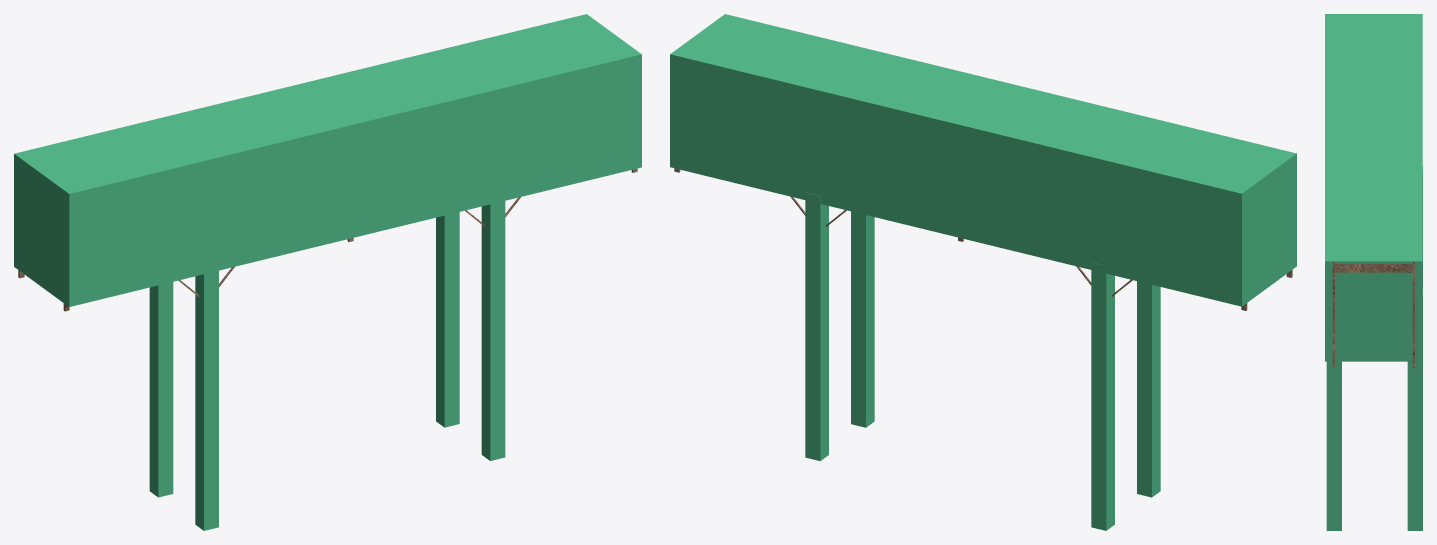
File: ind_walk_Sgt.dae
3 views of the same model, side by side, from view 1: azimuth 30°, elevation 25°; view 2: azimuth 150°, elevation 25°; view 3: azimuth 270°, elevation 25° (orthographic). The views are drawn at different scales.
Parts seen in each view (by area): view 1: Colmesh-1; view 2: Colmesh-1; view 3: Colmesh-1, ind_bld_c300.
Boxes of the visible parts, <box> form: Colmesh-1: <box>14,14,641,530</box>; Colmesh-1: <box>670,14,1296,530</box>; Colmesh-1: <box>1325,14,1422,530</box>; ind_bld_c300: <box>1332,262,1414,368</box>.
Size of the model in its own units: 12 by 2.01 by 7.42.
